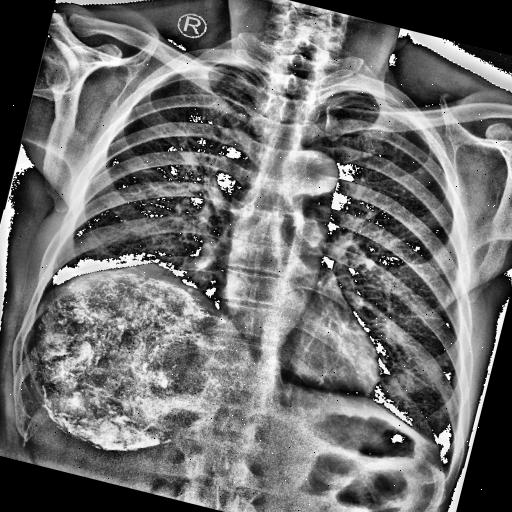10- Pleural effusion: (428, 454, 460, 494)
11- Pleural thickening: (428, 454, 460, 494)
9- Other lesion: (0, 243, 251, 473), (5, 252, 255, 477), (1, 252, 242, 472)
